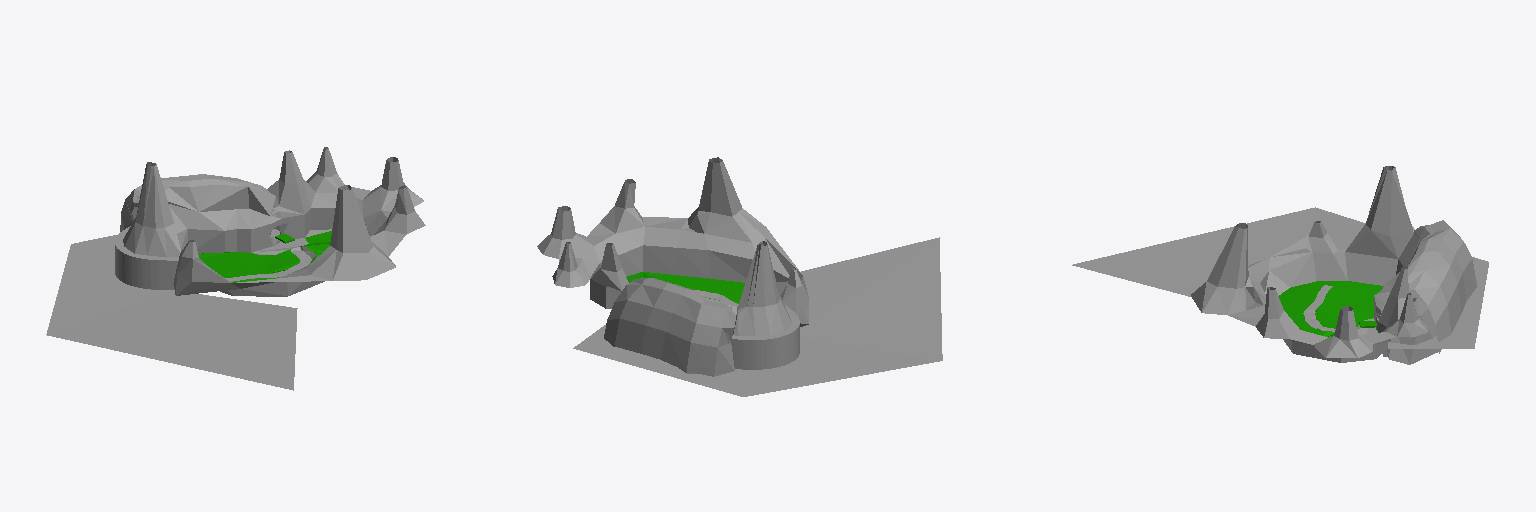
Rendered from volcanic.obj.
3 renders of one model, left to right at view 1: azimuth 30°, elevation 25°; view 2: azimuth 150°, elevation 25°; view 3: azimuth 270°, elevation 25°, orthographic.
Visible parts, largest first — view 1: Death_Plane.017, Decoration_Plane.008, Walls_Plane.010, Offroad_Plane.000, Road_Plane.018; view 2: Death_Plane.017, Decoration_Plane.008, Walls_Plane.010, Offroad_Plane.000, Road_Plane.018; view 3: Decoration_Plane.008, Walls_Plane.010, Death_Plane.017, Offroad_Plane.000, Road_Plane.018.
Part boxes in pixels (x1,y1,x2,y2): Death_Plane.017: (46,229,308,390); Decoration_Plane.008: (115,147,425,296); Walls_Plane.010: (120,174,369,295); Offroad_Plane.000: (198,231,331,282); Road_Plane.018: (115,226,315,281); Death_Plane.017: (573,237,942,396); Decoration_Plane.008: (537,157,808,369); Walls_Plane.010: (590,245,808,376); Offroad_Plane.000: (626,272,744,303); Road_Plane.018: (694,290,799,339); Decoration_Plane.008: (1191,166,1427,364); Walls_Plane.010: (1269,220,1476,364); Death_Plane.017: (1072,207,1488,348); Offroad_Plane.000: (1279,281,1383,337); Road_Plane.018: (1303,240,1376,331).
Bounding box in the file's own units: 618 × 199 × 583.